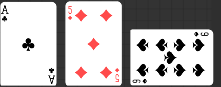9C: (131, 77, 148, 84), (192, 30, 209, 37)
AC: (0, 4, 9, 23)
